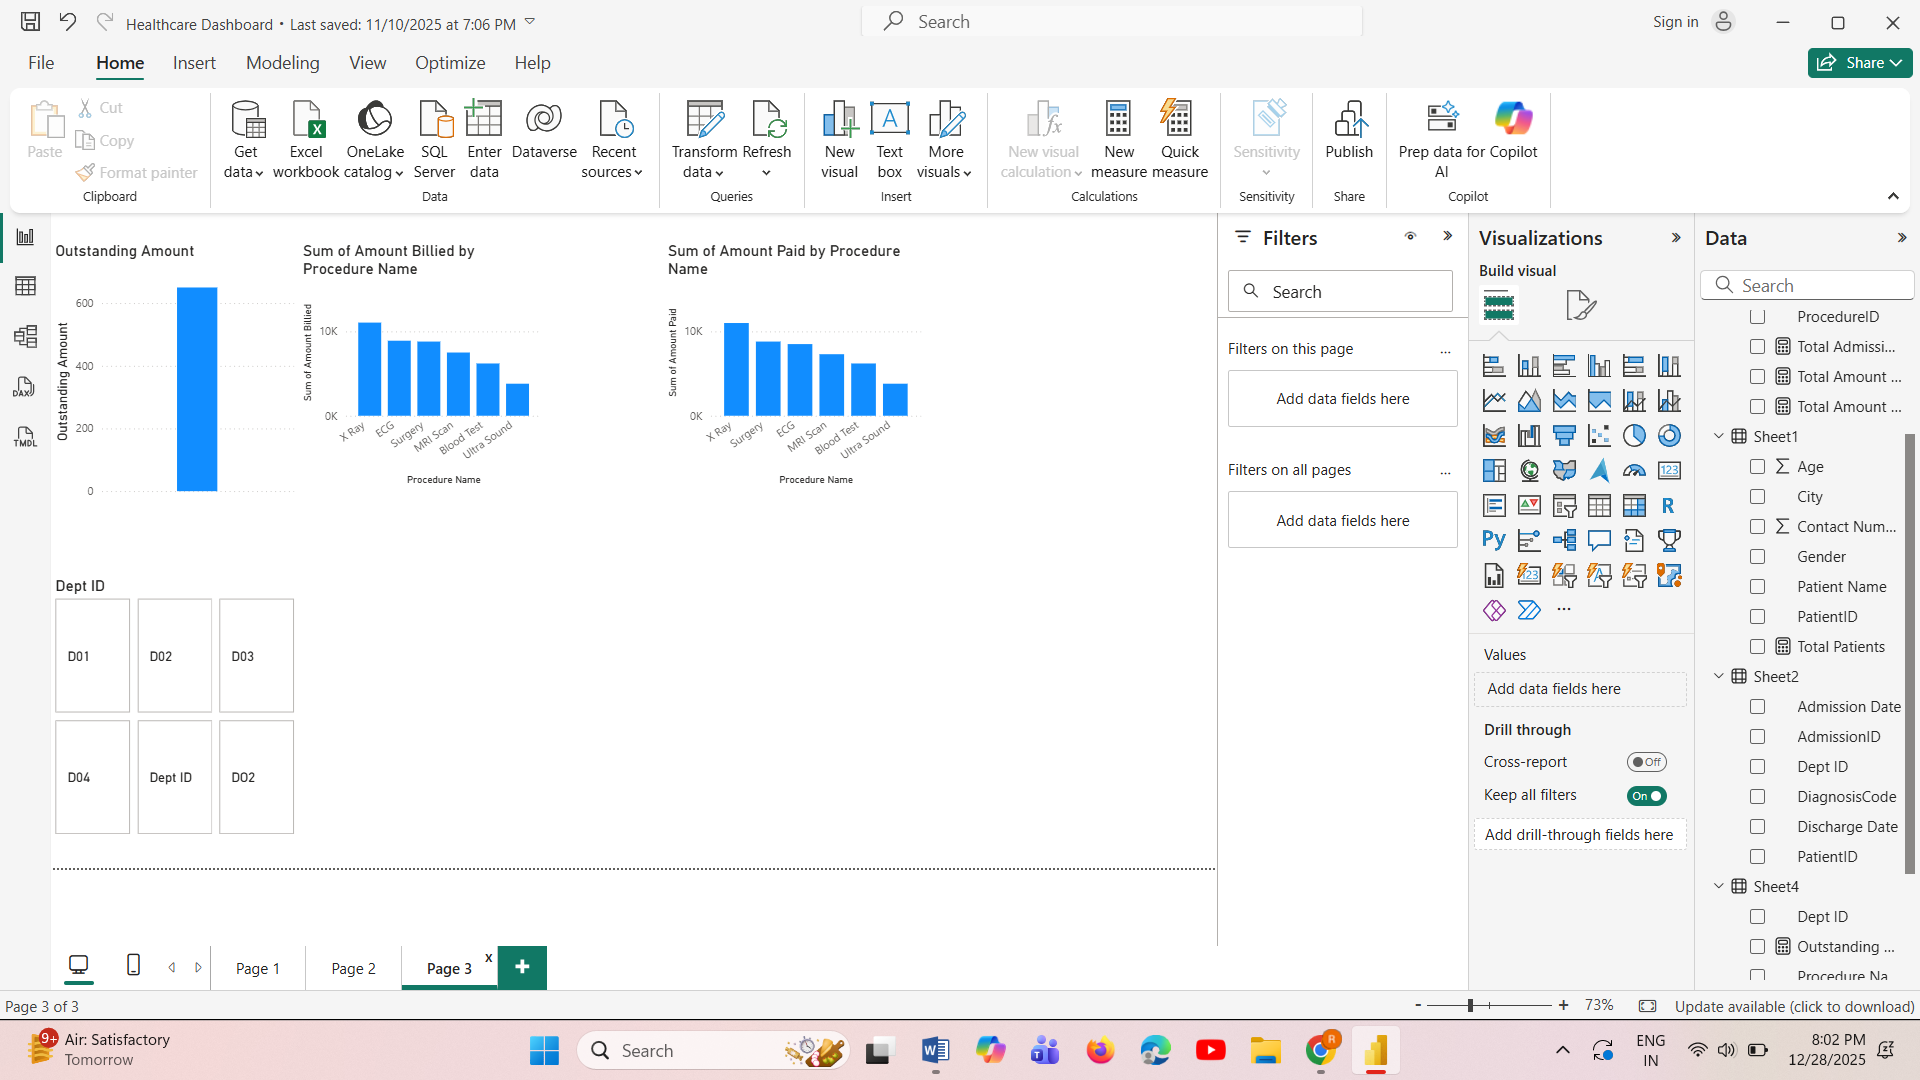

What the dashboard file says about the page in this screenshot:
{"tool":"powerbi","page":{"name":"Page 3","canvas":[1280,720],"ordinal":2},"visuals":[{"type":"clusteredColumnChart","fields":{"Y":["Sheet4.Outstanding Amount"]},"box":[0,32,272,288],"z":0},{"type":"clusteredColumnChart","fields":{"Category":["Sheet4.Procedure Name"],"Y":["Sum(Amount Billed.Amount Billied)"]},"box":[272,32,272,272],"z":1000},{"type":"clusteredColumnChart","fields":{"Category":["Sheet4.Procedure Name"],"Y":["Sum(Amount Billed.Amount Paid)"]},"box":[672,32,288,272],"z":2000},{"type":"advancedSlicerVisual","fields":{"Values":["Sheet2.Dept ID"]},"box":[0,400,272,288],"z":3000}]}

Visuals, with their boxes on the page's 1280x720 design canvas (x1, y1, x2, y2). These are canvas units, not pixel positions in the 1920x1080 screenshot, which may show the page scaled, cropped or inside an application window:
clusteredColumnChart - Sheet4.Outstanding Amount: [x1=0, y1=32, x2=272, y2=320]
clusteredColumnChart - Sheet4.Procedure Name x Sum(Amount Billed.Amount Billied): [x1=272, y1=32, x2=544, y2=304]
clusteredColumnChart - Sheet4.Procedure Name x Sum(Amount Billed.Amount Paid): [x1=672, y1=32, x2=960, y2=304]
advancedSlicerVisual - Sheet2.Dept ID: [x1=0, y1=400, x2=272, y2=688]
